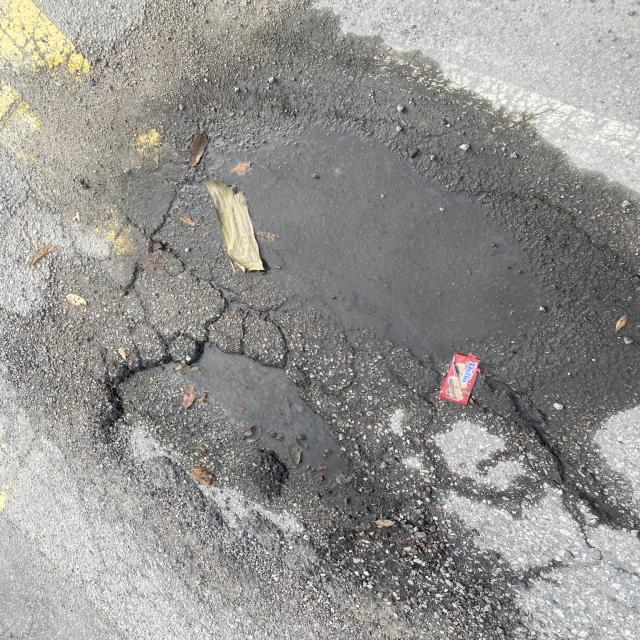Pothole: (46, 306, 406, 580)
